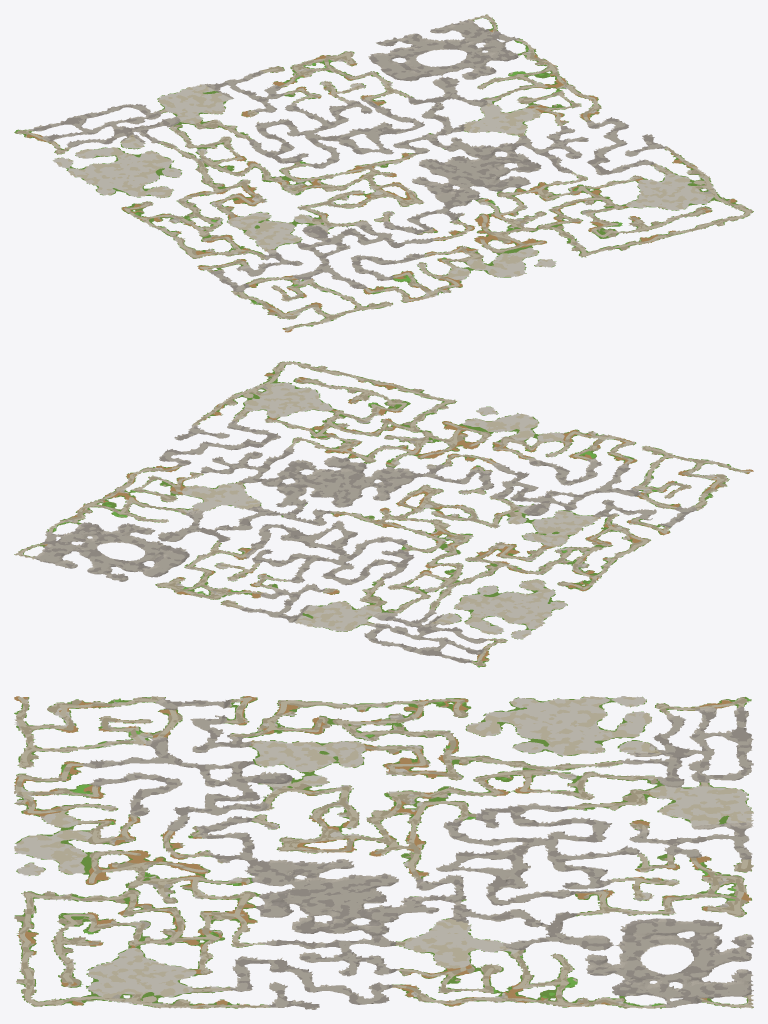
File: Dungeon-2B-Ground.fbx
3 renders of one model, top to bottom at view 1: azimuth 30°, elevation 25°; view 2: azimuth 150°, elevation 25°; view 3: azimuth 270°, elevation 25°, orthographic. The views are drawn at different scales.
Parts seen in each view (by area): view 1: Dungeon-2B-Ground-c53, Dungeon-2B-Ground-c71, Dungeon-2B-Ground-c27, Dungeon-2B-Ground-c05, Dungeon-2B-Ground-c77, Dungeon-2B-Ground-c06, Dungeon-2B-Ground-c22, Dungeon-2B-Ground-c64, Dungeon-2B-Ground-c43, Dungeon-2B-Ground-c13, Dungeon-2B-Ground-c30, Dungeon-2B-Ground-c41 (+52 smaller); view 2: Dungeon-2B-Ground-c53, Dungeon-2B-Ground-c71, Dungeon-2B-Ground-c27, Dungeon-2B-Ground-c05, Dungeon-2B-Ground-c77, Dungeon-2B-Ground-c06, Dungeon-2B-Ground-c64, Dungeon-2B-Ground-c66, Dungeon-2B-Ground-c13, Dungeon-2B-Ground-c22, Dungeon-2B-Ground-c43, Dungeon-2B-Ground-c30 (+52 smaller); view 3: Dungeon-2B-Ground-c53, Dungeon-2B-Ground-c71, Dungeon-2B-Ground-c27, Dungeon-2B-Ground-c05, Dungeon-2B-Ground-c77, Dungeon-2B-Ground-c43, Dungeon-2B-Ground-c06, Dungeon-2B-Ground-c64, Dungeon-2B-Ground-c13, Dungeon-2B-Ground-c66, Dungeon-2B-Ground-c30, Dungeon-2B-Ground-c22 (+52 smaller).
Part boxes in pixels (<box>): Dungeon-2B-Ground-c53: <box>448,145,540,185</box>; Dungeon-2B-Ground-c71: <box>638,166,717,205</box>; Dungeon-2B-Ground-c27: <box>132,87,222,126</box>; Dungeon-2B-Ground-c05: <box>84,167,171,197</box>; Dungeon-2B-Ground-c77: <box>431,14,520,53</box>; Dungeon-2B-Ground-c06: <box>53,142,137,179</box>; Dungeon-2B-Ground-c22: <box>303,220,393,253</box>; Dungeon-2B-Ground-c64: <box>477,104,568,144</box>; Dungeon-2B-Ground-c43: <box>387,159,481,196</box>; Dungeon-2B-Ground-c13: <box>206,205,296,239</box>; Dungeon-2B-Ground-c30: <box>442,250,523,286</box>; Dungeon-2B-Ground-c41: <box>458,209,543,249</box>; Dungeon-2B-Ground-c53: <box>266,459,358,497</box>; Dungeon-2B-Ground-c71: <box>217,383,309,418</box>; Dungeon-2B-Ground-c27: <box>308,602,398,639</box>; Dungeon-2B-Ground-c05: <box>493,581,567,618</box>; Dungeon-2B-Ground-c77: <box>14,530,99,568</box>; Dungeon-2B-Ground-c06: <box>459,606,545,642</box>; Dungeon-2B-Ground-c64: <box>172,470,265,506</box>; Dungeon-2B-Ground-c66: <box>107,519,189,559</box>; Dungeon-2B-Ground-c13: <box>513,518,586,555</box>; Dungeon-2B-Ground-c22: <box>489,478,569,515</box>; Dungeon-2B-Ground-c43: <box>326,474,411,512</box>; Dungeon-2B-Ground-c30: <box>487,413,575,448</box>; Dungeon-2B-Ground-c53: <box>290,892,384,932</box>; Dungeon-2B-Ground-c71: <box>103,969,198,1008</box>; Dungeon-2B-Ground-c27: <box>662,774,753,813</box>; Dungeon-2B-Ground-c05: <box>475,697,570,734</box>; Dungeon-2B-Ground-c77: <box>662,970,753,1008</box>; Dungeon-2B-Ground-c43: <box>289,852,384,893</box>; Dungeon-2B-Ground-c06: <box>569,696,664,735</box>; Dungeon-2B-Ground-c64: <box>383,931,478,972</box>; Dungeon-2B-Ground-c13: <box>289,733,384,773</box>; Dungeon-2B-Ground-c66: <box>569,931,664,972</box>; Dungeon-2B-Ground-c30: <box>14,812,105,852</box>; Dungeon-2B-Ground-c22: <box>197,774,292,814</box>.
Bounding box in the file's own units: 131 × 0.3168 × 131.
